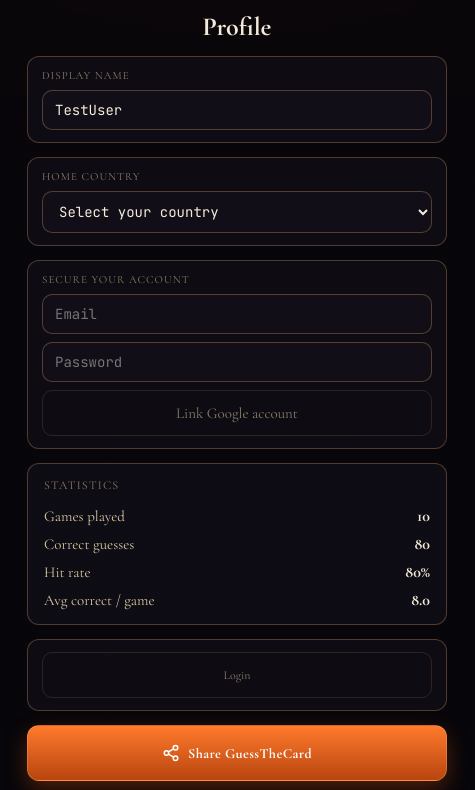
it: ProfilePanel — anonymous › reveals profile-name-save only when the name differs from the saved one
Step 1. Replace the text in the field with test id "profile-name-input" with "Newname" → (237, 110), box left=42, top=90, right=432, bottom=130
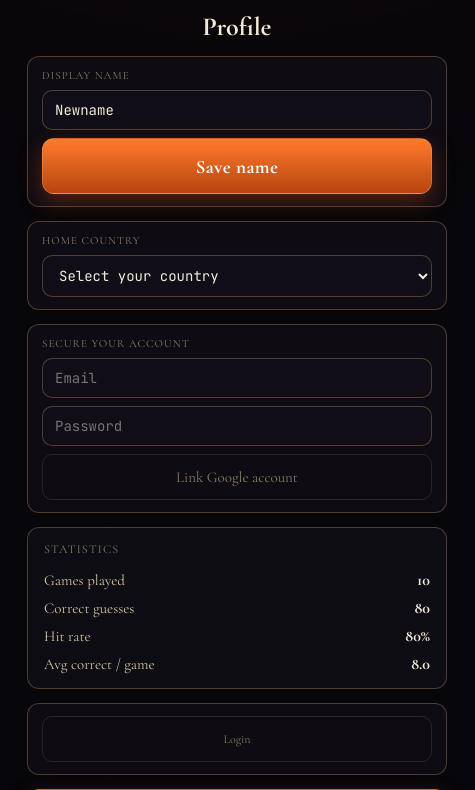
Expected: the button with test id "profile-name-save" is shown, left=42, top=138, right=432, bottom=194
Step 2. Replace the text in the field with test id "profile-name-input" with "TestUser" → (237, 110), box left=42, top=90, right=432, bottom=130
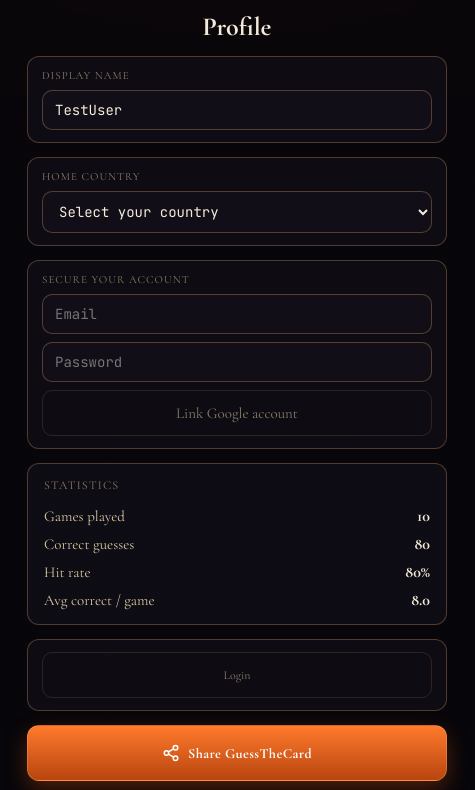
Expected: the button with test id "profile-name-save" is gone
